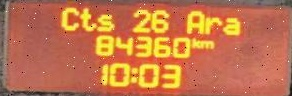0: (107, 61, 128, 86), (138, 62, 159, 87), (172, 35, 189, 57)
1: (99, 62, 107, 85)
2: (131, 6, 149, 33)
3: (161, 62, 181, 87), (133, 34, 151, 56)
4: (113, 34, 132, 55)
6: (150, 7, 169, 33), (153, 35, 171, 58)
8: (94, 33, 113, 56)
X: (78, 5, 96, 32), (60, 6, 79, 31), (186, 9, 203, 34), (96, 10, 114, 31), (204, 15, 221, 35), (223, 15, 240, 34), (129, 65, 137, 83), (199, 39, 213, 48), (191, 36, 199, 47)
